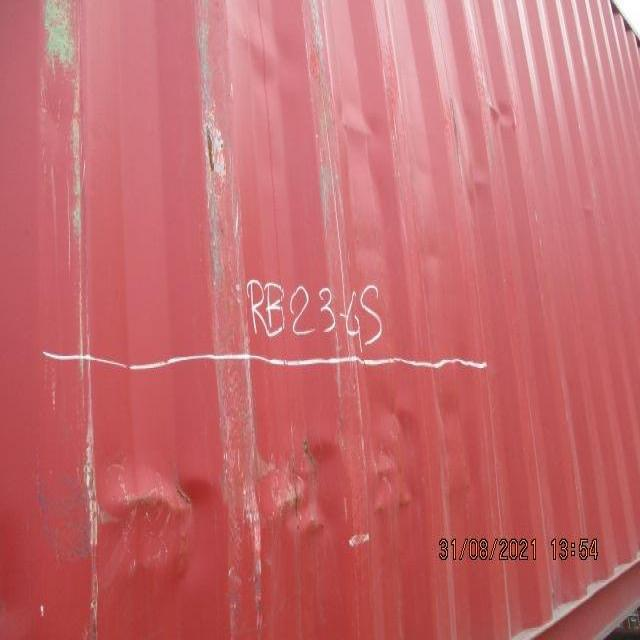dent: (33, 376, 494, 609), (311, 81, 542, 216)
